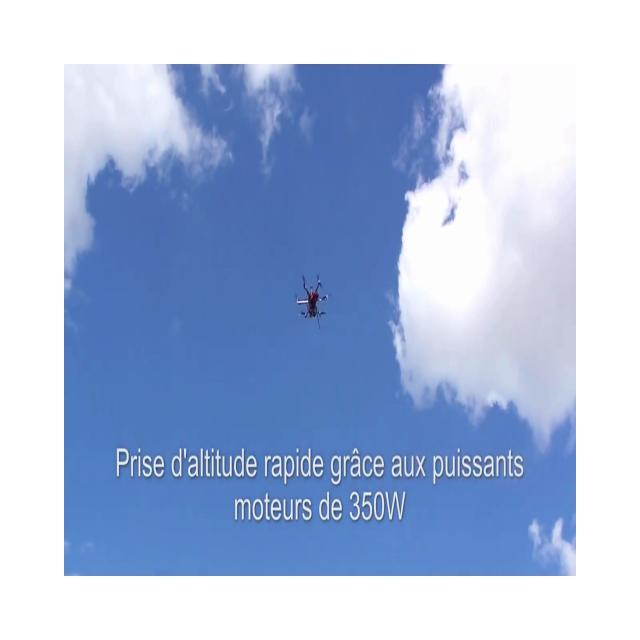drone: (294, 272, 328, 330)
